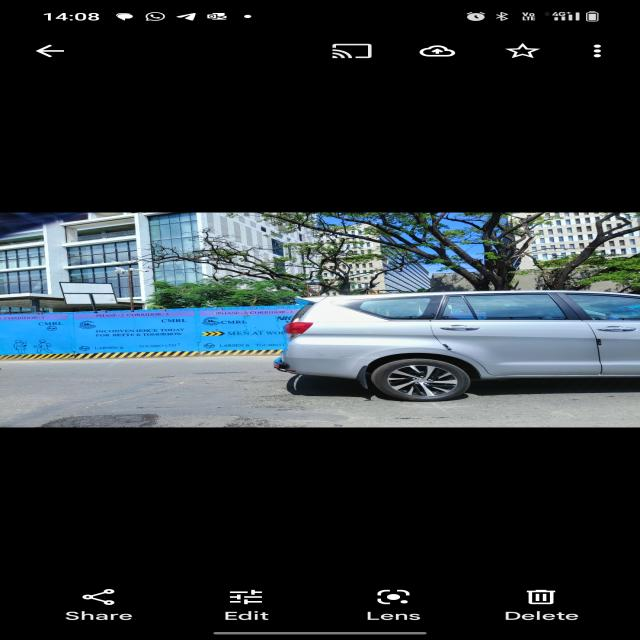scratch: (457, 339, 467, 341)
